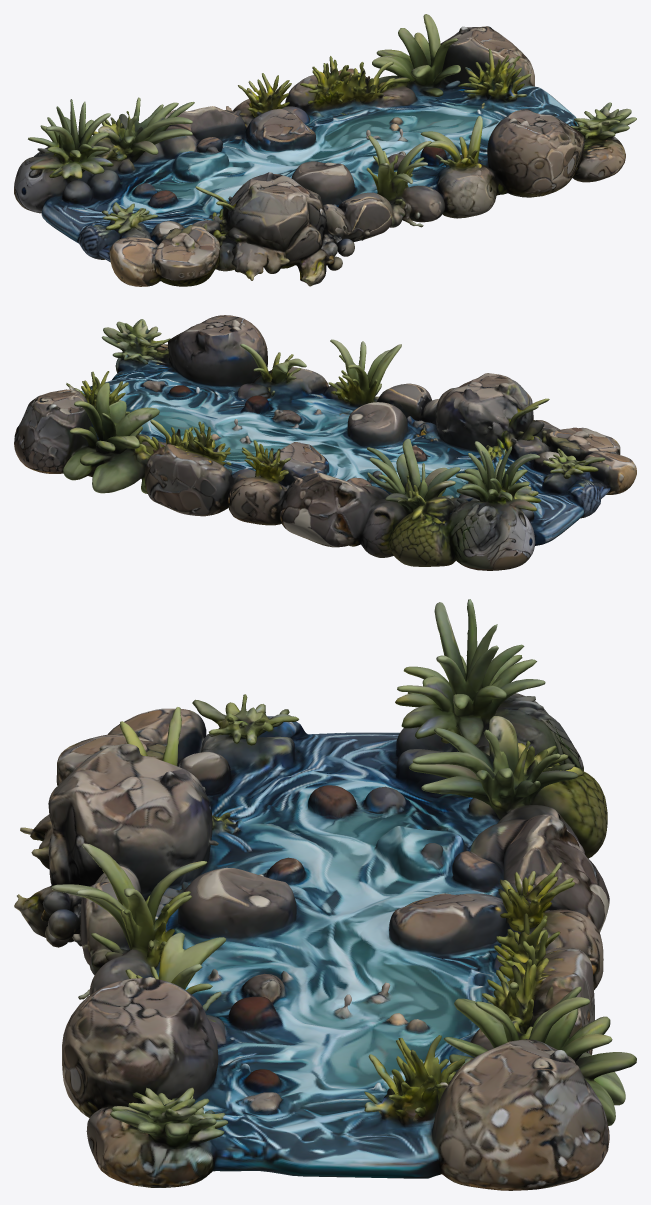
The model's file is nature-stream.glb.
3 views of the same model, one above another, from view 1: azimuth 30°, elevation 25°; view 2: azimuth 150°, elevation 25°; view 3: azimuth 270°, elevation 25° (orthographic). The views are drawn at different scales.
Visible parts, largest first — view 1: tripo_node_9d31e437-db36-4672-bd8c-effeaa659fdd; view 2: tripo_node_9d31e437-db36-4672-bd8c-effeaa659fdd; view 3: tripo_node_9d31e437-db36-4672-bd8c-effeaa659fdd.
Boxes of the visible parts, <box> form: tripo_node_9d31e437-db36-4672-bd8c-effeaa659fdd: <box>14,14,636,286</box>; tripo_node_9d31e437-db36-4672-bd8c-effeaa659fdd: <box>14,315,636,570</box>; tripo_node_9d31e437-db36-4672-bd8c-effeaa659fdd: <box>14,599,636,1190</box>.
Size of the model in its own units: 0.8812 by 0.2 by 0.5153.
Materials: 1 (1 with a texture image).
